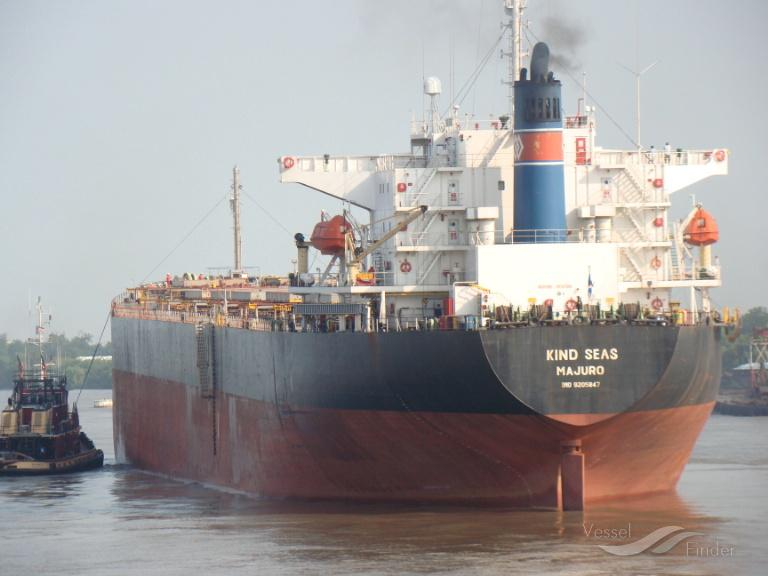OCR: (544, 342, 622, 398)
